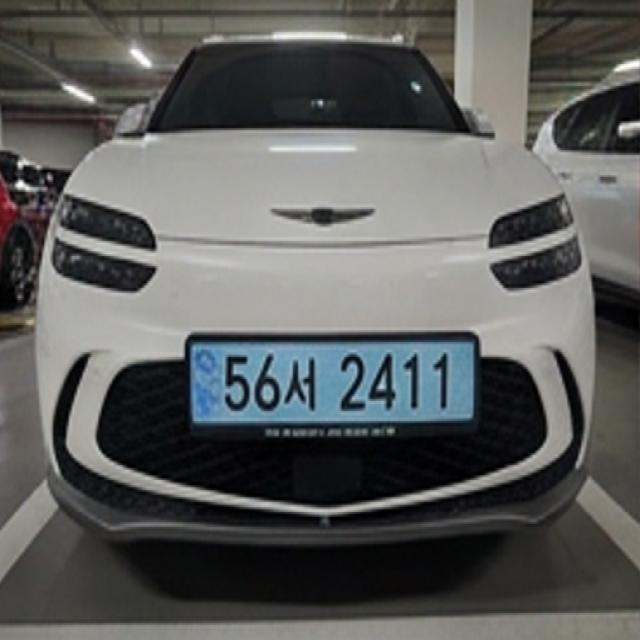car: (169, 312, 507, 462)
carev: (190, 338, 224, 426), (444, 334, 475, 421)
